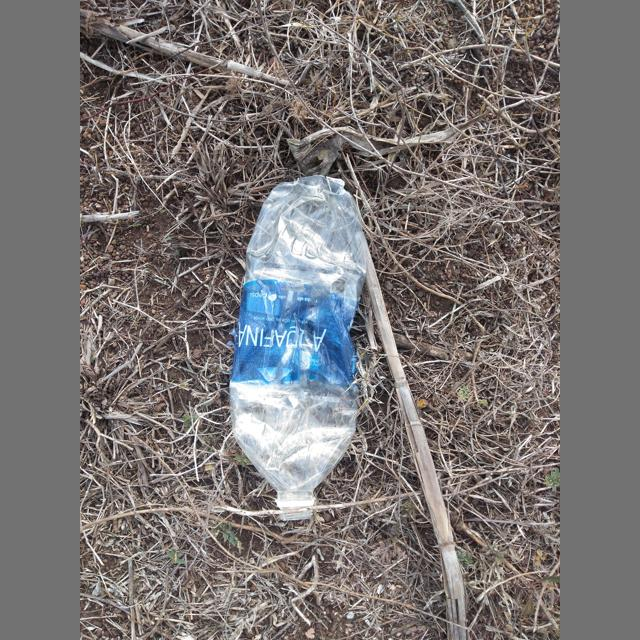litter: (230, 175, 367, 521)
